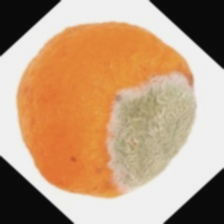orange: (63, 4, 202, 194)
